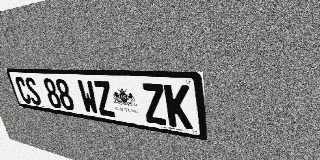8: (54, 78, 75, 111), (42, 78, 63, 109)
C: (14, 76, 33, 104)
K: (164, 84, 193, 130)
S: (23, 77, 43, 106)
W: (76, 80, 100, 115)
Z: (140, 83, 168, 126), (92, 80, 116, 117)
